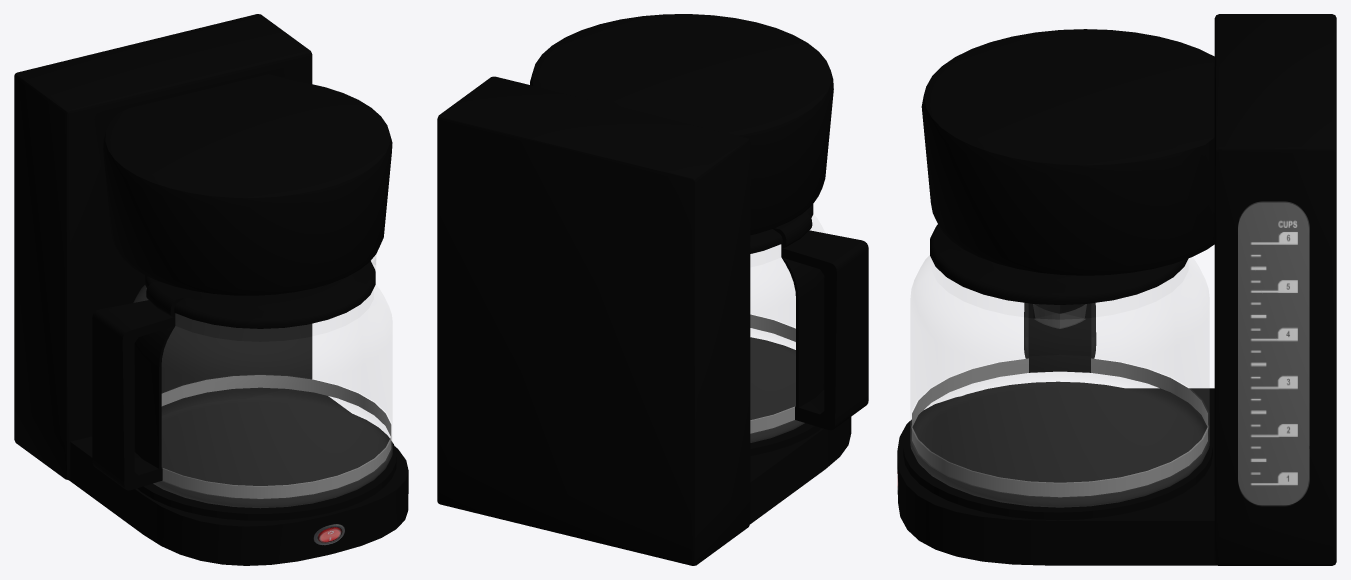
Rendered from Coffee maker.fbx.
3 renders of one model, left to right at view 1: azimuth 30°, elevation 25°; view 2: azimuth 150°, elevation 25°; view 3: azimuth 270°, elevation 25°, orthographic. The views are drawn at different scales.
Parts seen in each view (by area): view 1: Coffee maker, Coffee jar; view 2: Coffee maker, Coffee jar; view 3: Coffee maker, Coffee jar.
Part boxes in pixels (x1,y1,x2,y2): Coffee maker: [14, 14, 408, 565]; Coffee jar: [92, 255, 392, 507]; Coffee maker: [437, 14, 851, 565]; Coffee jar: [750, 204, 868, 442]; Coffee maker: [897, 14, 1336, 565]; Coffee jar: [911, 224, 1208, 506].
Size of the model in its own units: 216 by 277 by 263.
Materials: 4 (1 with a texture image).
